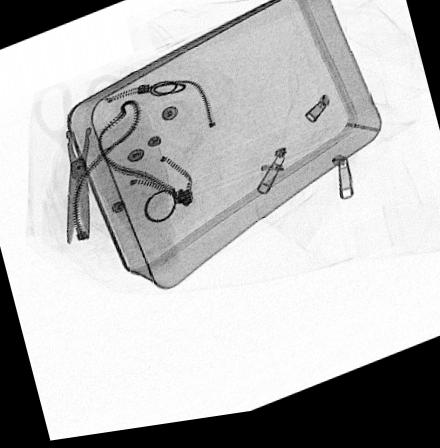Scissors: (31, 76, 129, 246)
